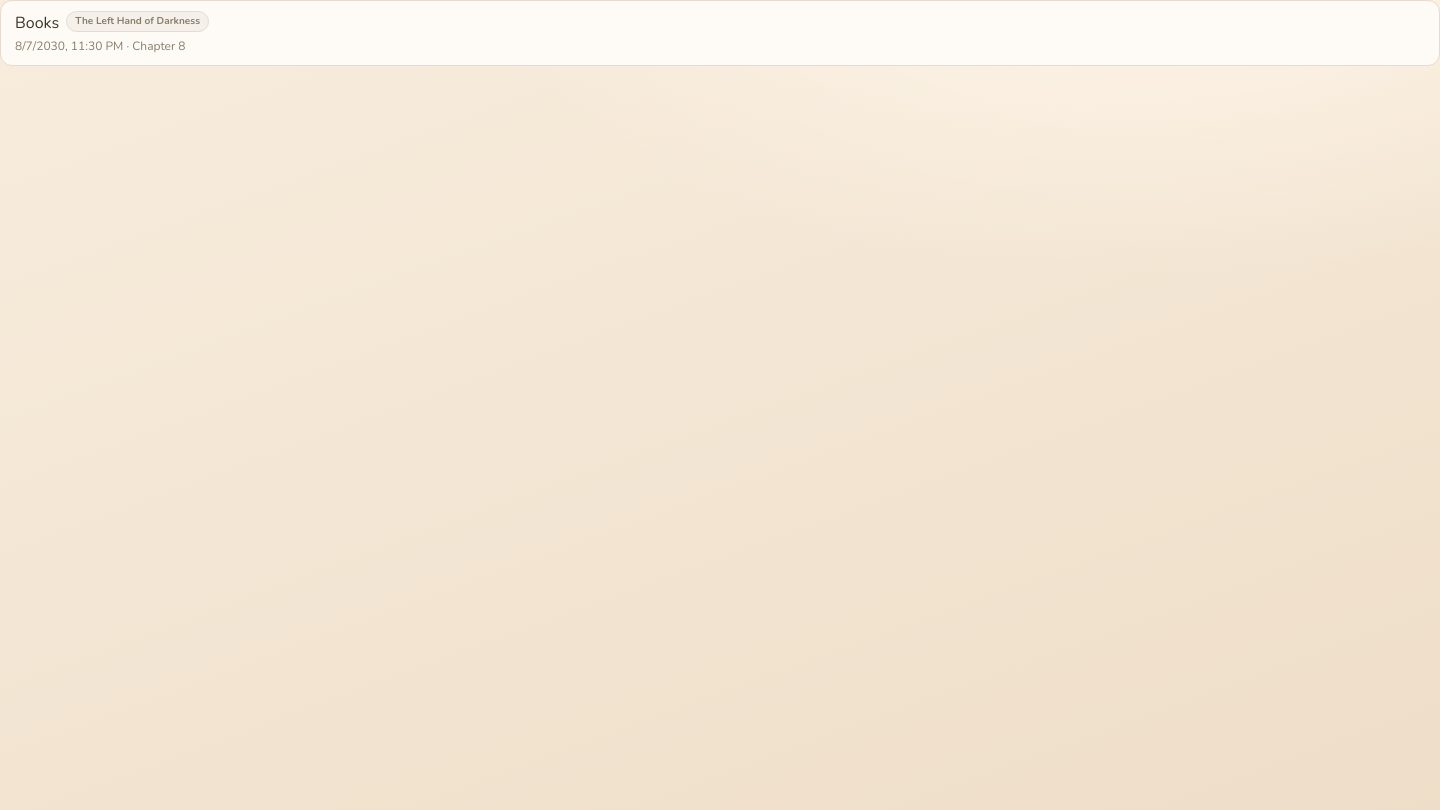
it: BookClubMeetingFeature › keeps completed meeting attendance read-only
The image size is (1440, 810).
Click the button named "Open Book Club meeting for The Left Hand of Darkness, 8/7/20": (720, 33) [15, 11, 1425, 55]
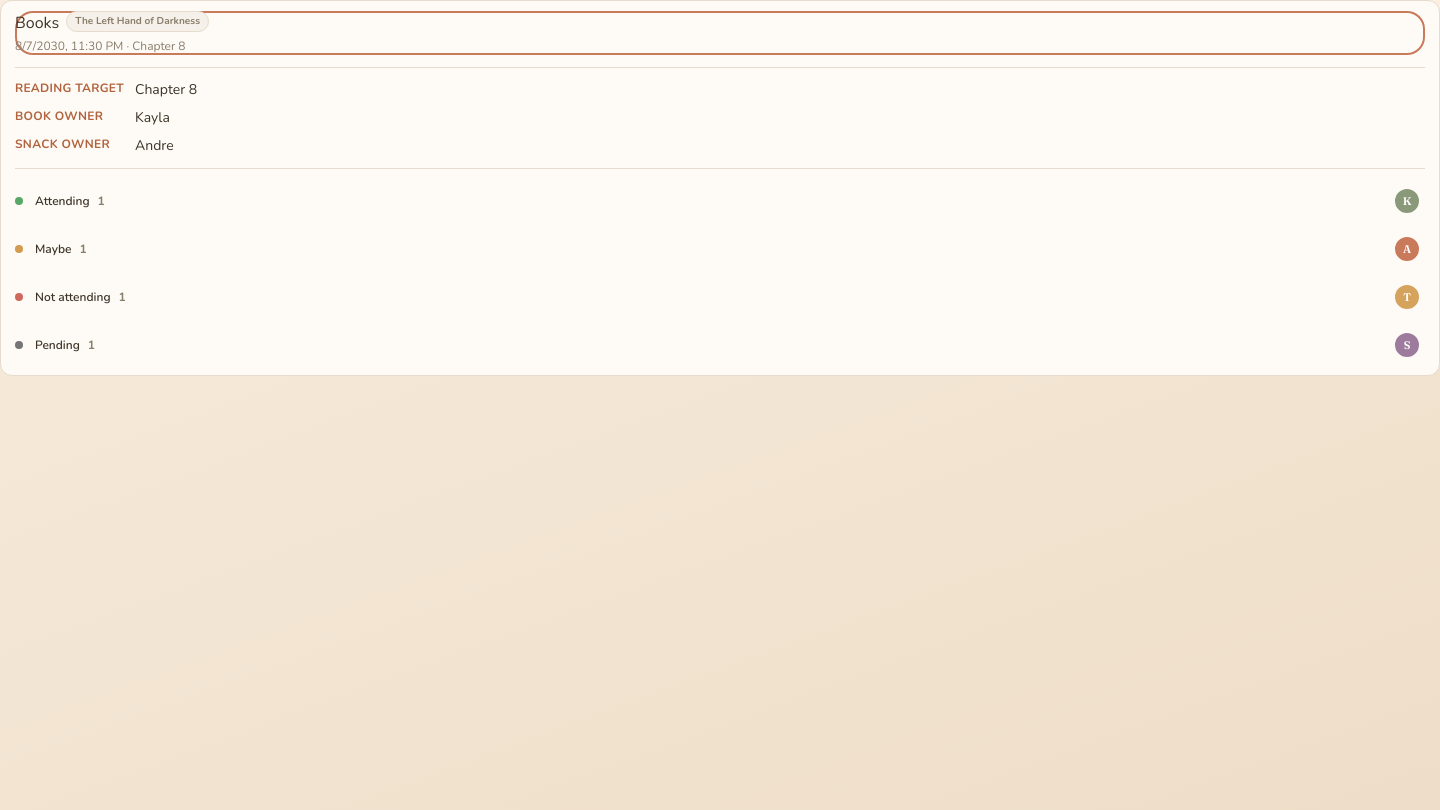
Expected: the element named "Member attendance" is shown, [15, 181, 1425, 365]
Now the text labelled "RSVP" is gone
